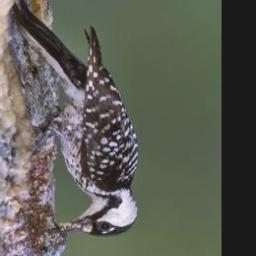Woodpecker: (14, 0, 142, 238)
